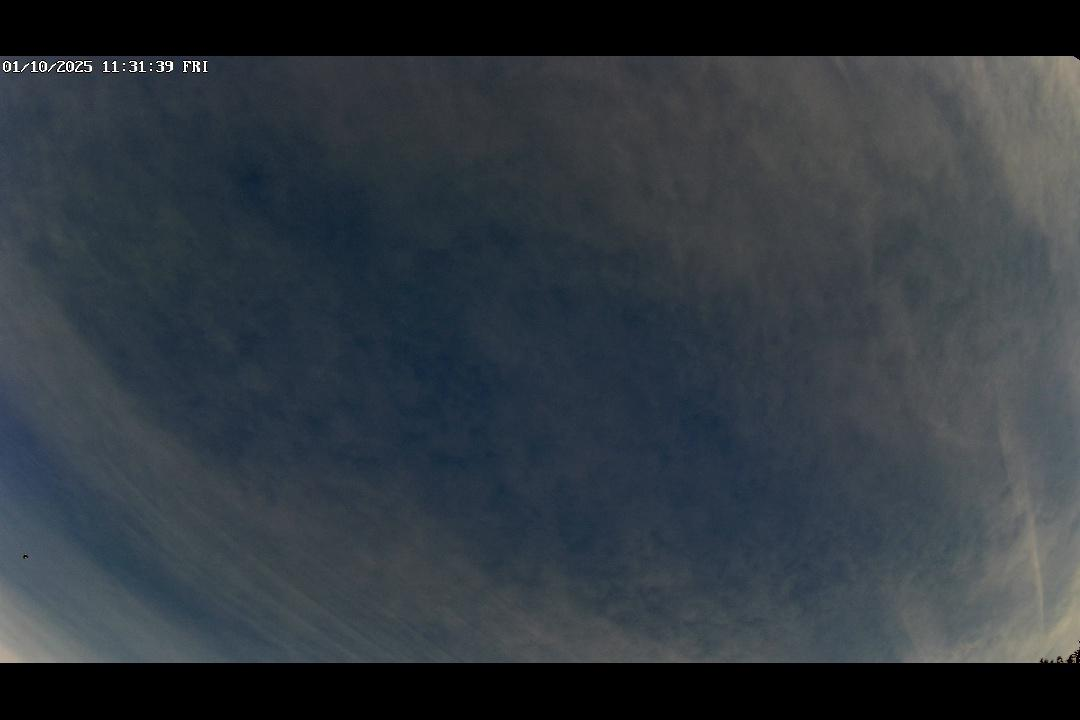WildLife: (9, 548, 41, 565)
